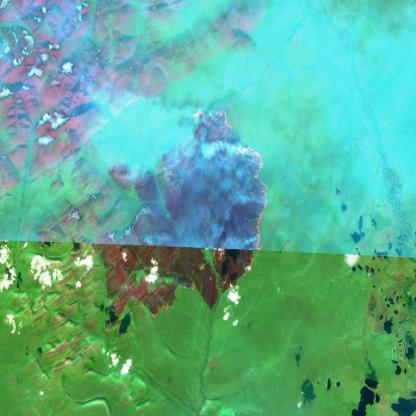fire: (184, 102, 273, 292)
